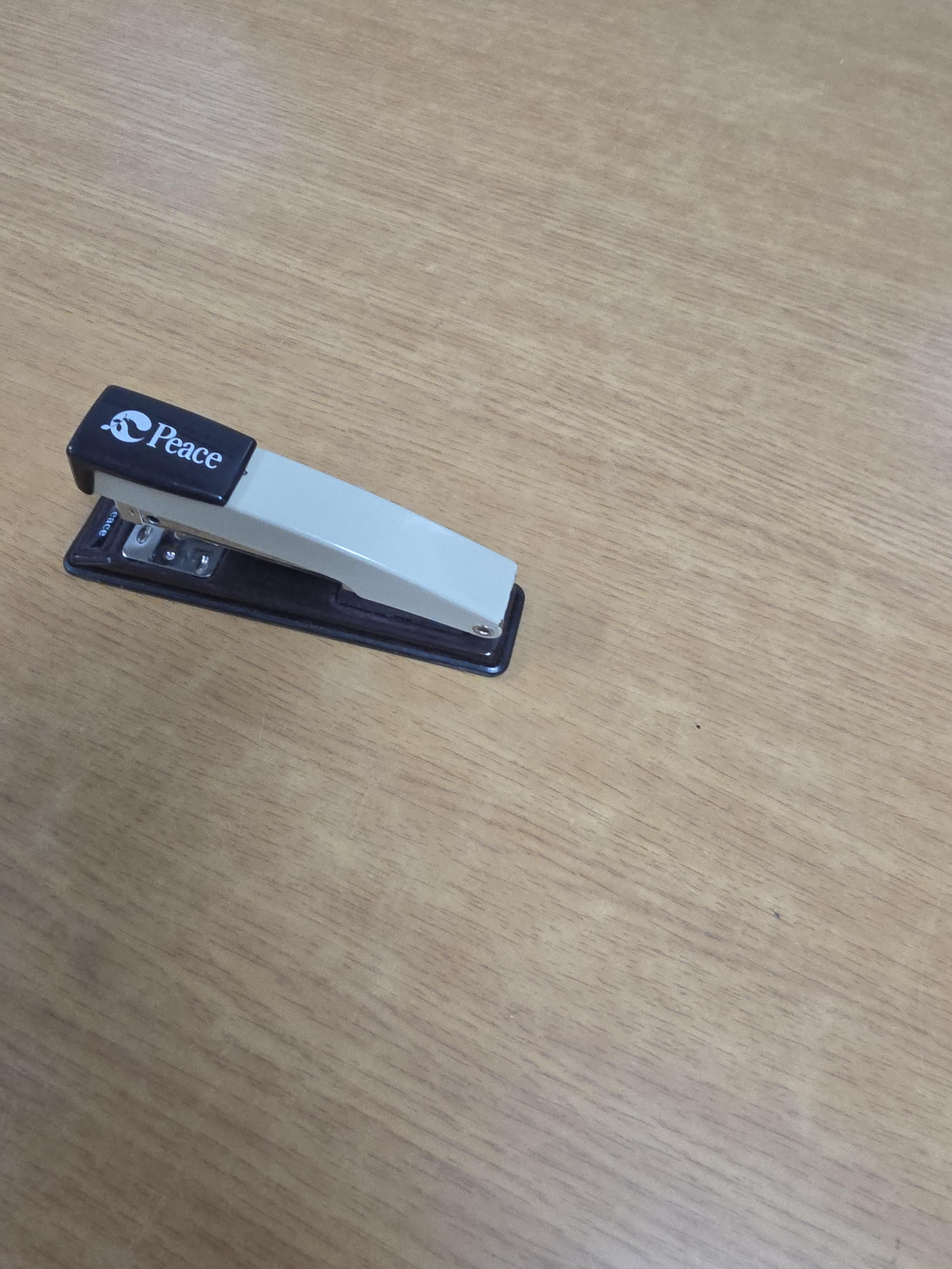stapler: (62, 384, 526, 678)
